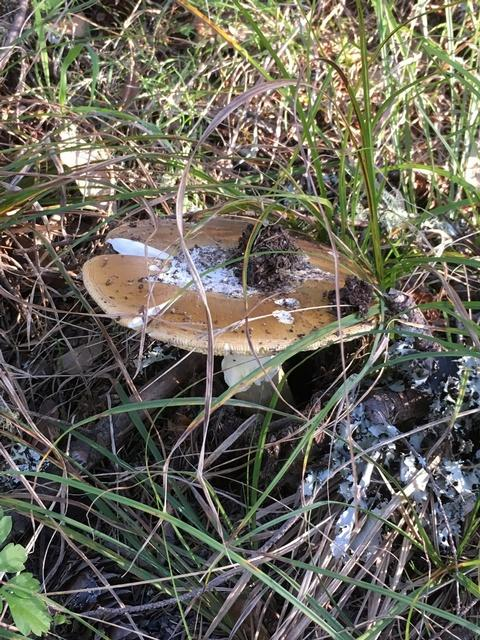edible_mushroom: (81, 213, 386, 414)
